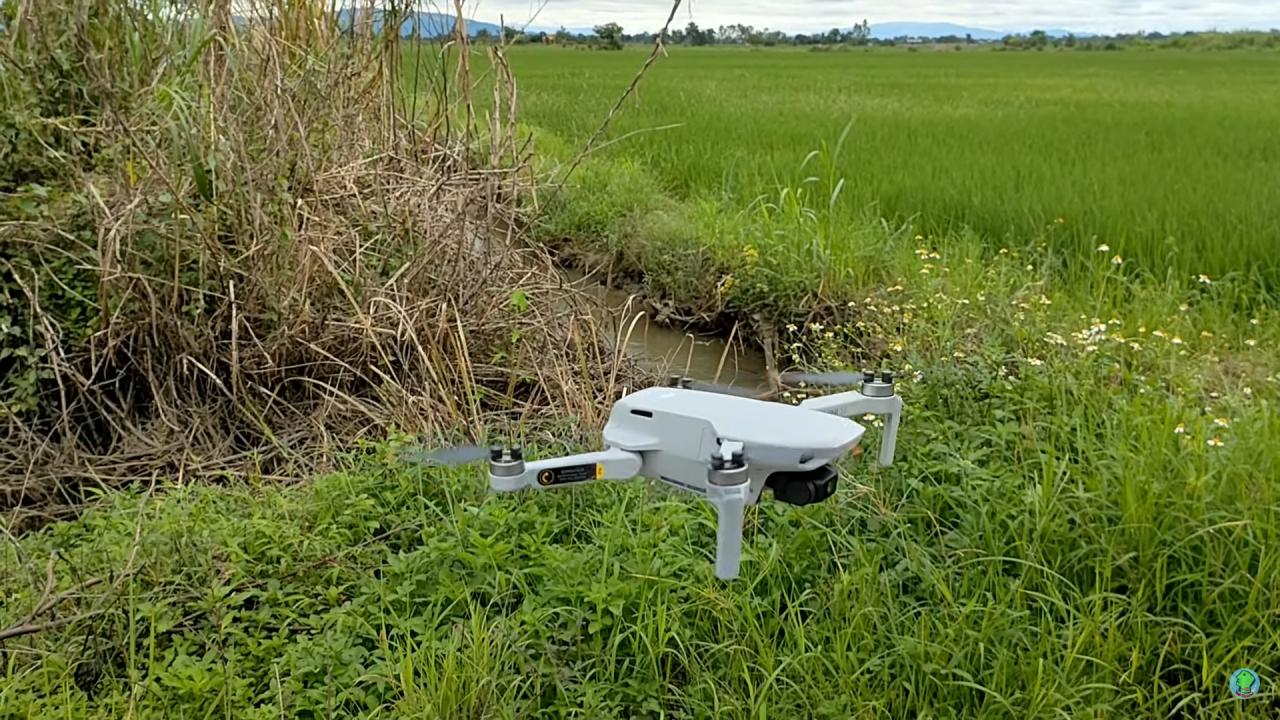Drone: (374, 354, 925, 587)
